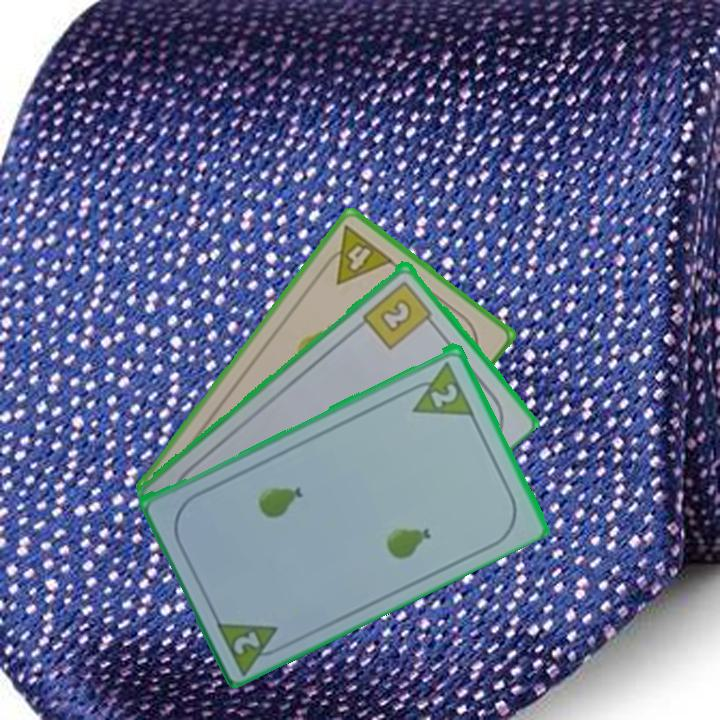2b: (359, 277, 439, 352)
2p: (212, 614, 291, 675), (427, 379, 461, 410)
4p: (316, 221, 397, 288)
